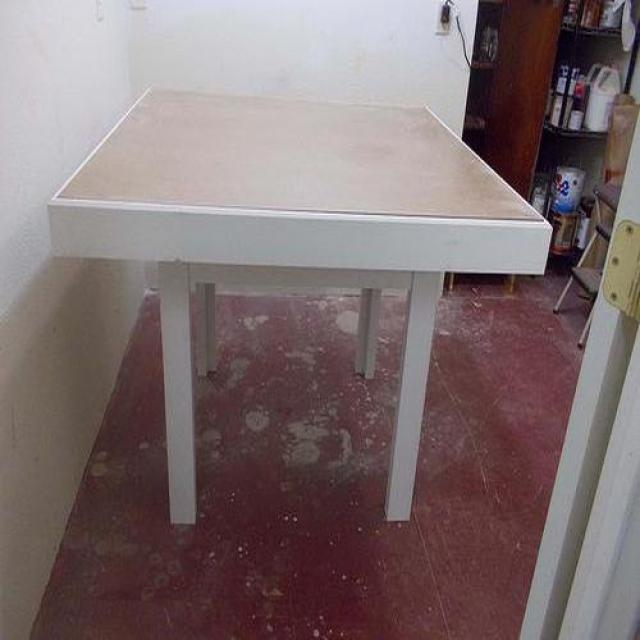table: (46, 88, 550, 527)
